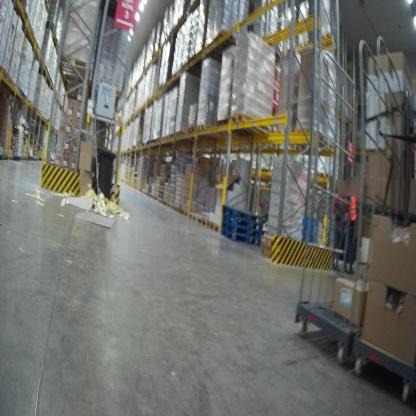pallet: (229, 108, 277, 139), (223, 205, 263, 227), (221, 222, 262, 241), (222, 215, 263, 233), (221, 228, 261, 246), (196, 120, 223, 145), (216, 26, 234, 48), (210, 222, 220, 235), (198, 216, 210, 226)
